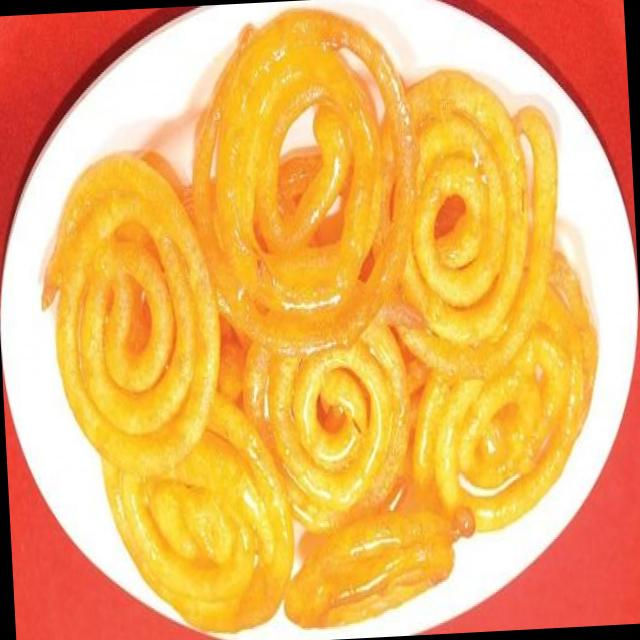jalebi: (41, 20, 619, 640)
